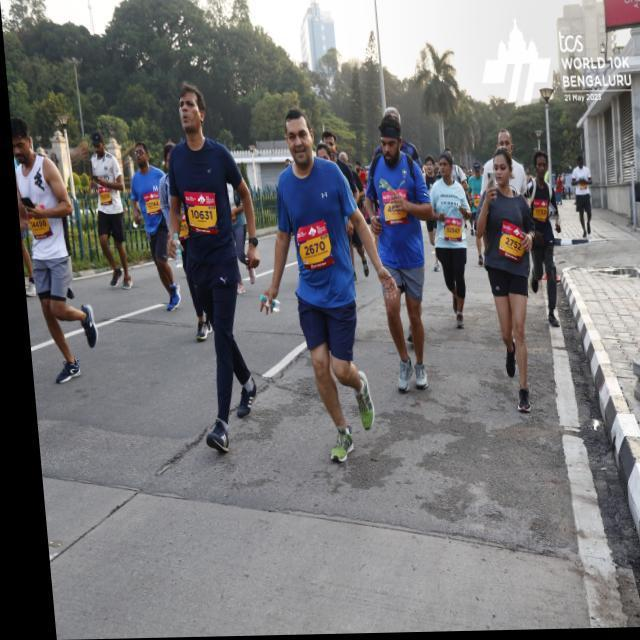dorsal: (180, 188, 216, 236), (290, 226, 328, 269), (496, 221, 522, 266), (438, 217, 459, 246)
